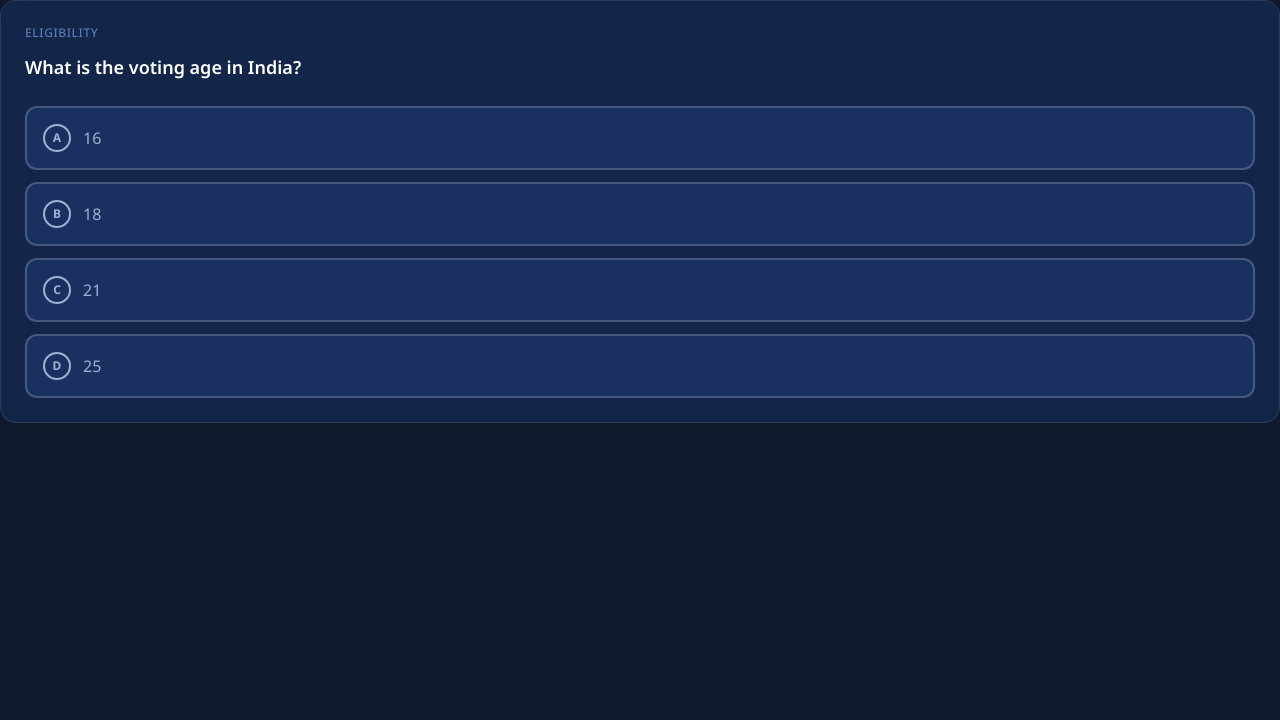
QuizQuestion Component › tracks score correctly — correct answer increments score
Click the button "B 18": x=57, y=214 [25,182,1255,246]
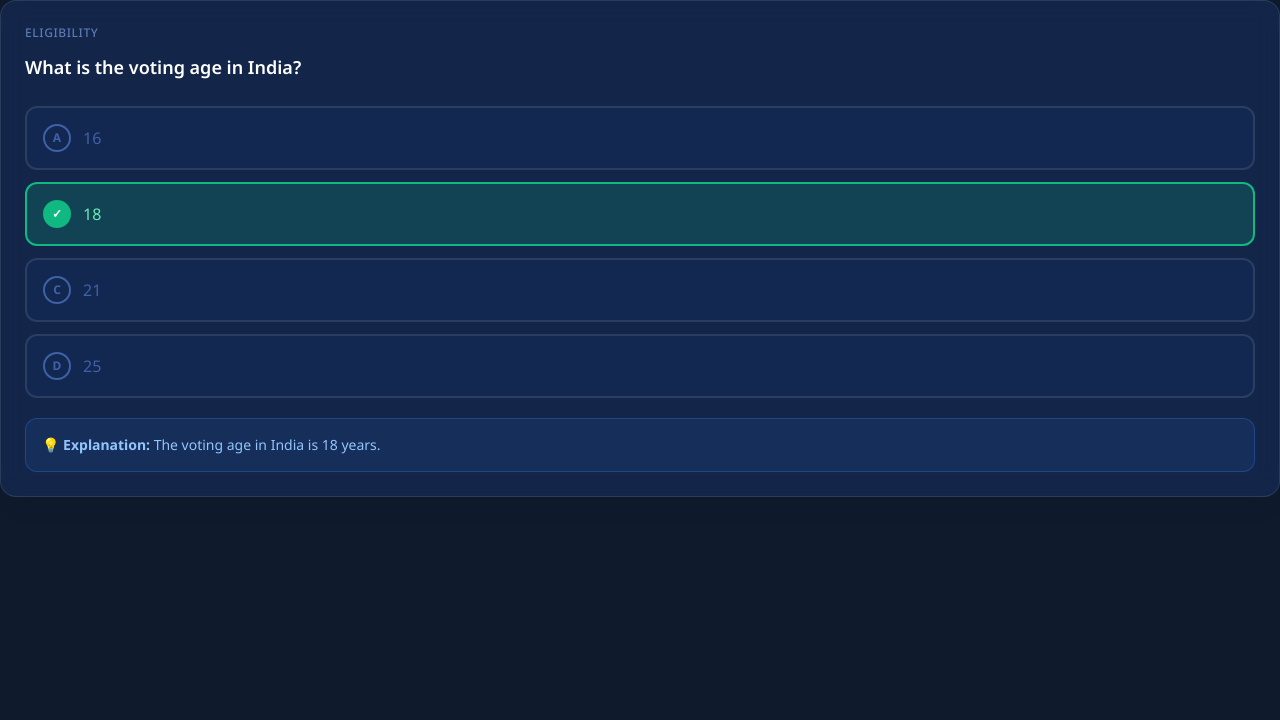
Now the text "💡 Explanation: The voting age in India is 18 years." is shown, box [42,435,380,454]
